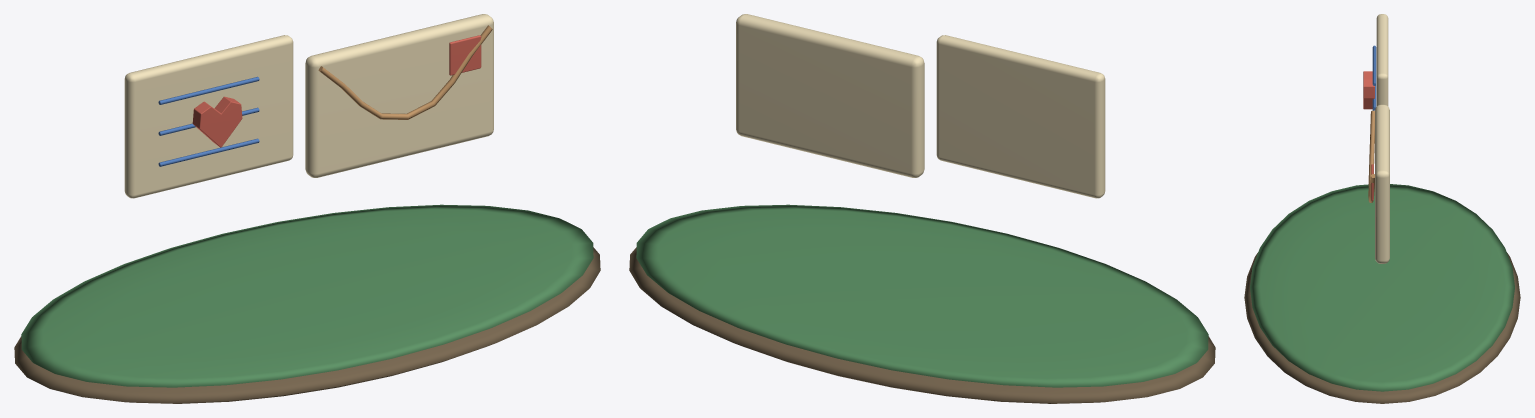
Rendered from letter-envelope.glb.
3 renders of one model, left to right at view 1: azimuth 30°, elevation 25°; view 2: azimuth 150°, elevation 25°; view 3: azimuth 270°, elevation 25°, orthographic. The views are drawn at different scales.
Visible parts, largest first — view 1: letter-envelope_surface_01, letter-envelope_surface_02, letter-envelope_surface_00, letter-envelope_surface_05, letter-envelope_surface_04, letter-envelope_surface_03; view 2: letter-envelope_surface_01, letter-envelope_surface_02, letter-envelope_surface_00; view 3: letter-envelope_surface_01, letter-envelope_surface_00, letter-envelope_surface_02, letter-envelope_surface_05, letter-envelope_surface_04, letter-envelope_surface_03.
Part boxes in pixels (bbox=[...]): letter-envelope_surface_01: bbox=[21, 204, 593, 387]; letter-envelope_surface_02: bbox=[124, 14, 493, 198]; letter-envelope_surface_00: bbox=[14, 247, 600, 403]; letter-envelope_surface_05: bbox=[192, 35, 481, 147]; letter-envelope_surface_04: bbox=[318, 25, 492, 119]; letter-envelope_surface_03: bbox=[158, 76, 259, 166]; letter-envelope_surface_01: bbox=[636, 204, 1208, 387]; letter-envelope_surface_02: bbox=[736, 14, 1105, 198]; letter-envelope_surface_00: bbox=[629, 247, 1215, 403]; letter-envelope_surface_01: bbox=[1250, 184, 1514, 391]; letter-envelope_surface_00: bbox=[1244, 253, 1520, 403]; letter-envelope_surface_02: bbox=[1375, 14, 1389, 263]; letter-envelope_surface_05: bbox=[1363, 71, 1374, 200]; letter-envelope_surface_04: bbox=[1368, 110, 1374, 202]; letter-envelope_surface_03: bbox=[1372, 45, 1376, 110].
Size of the model in its own units: 4.56 by 2.29 by 2.5.
